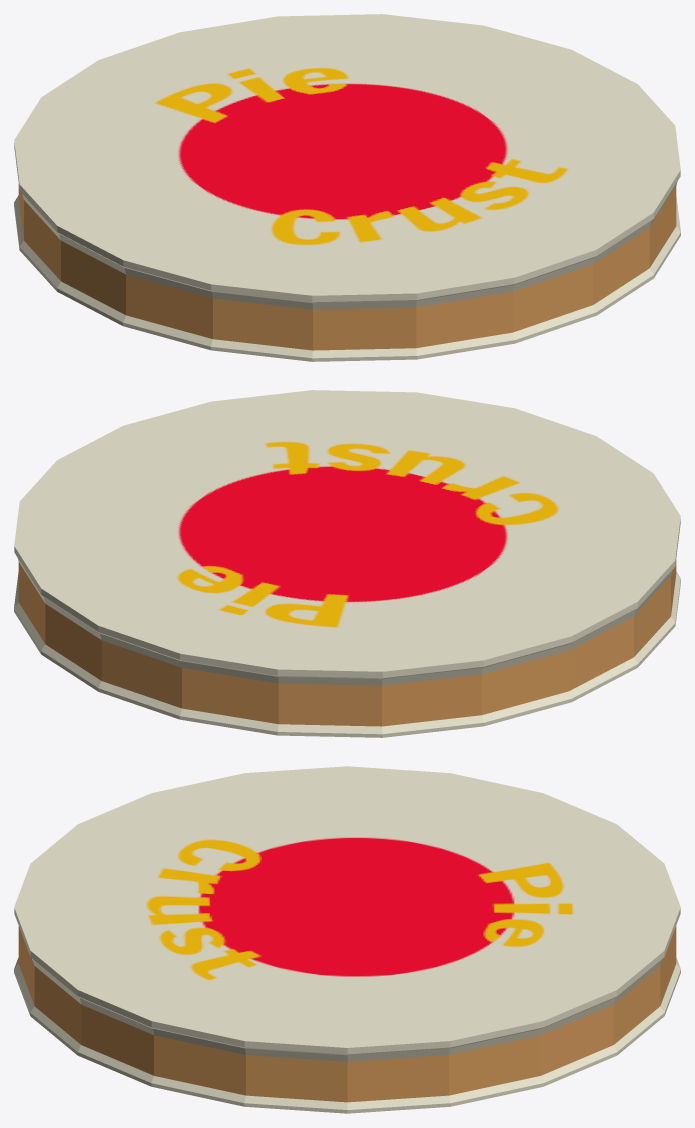
Rendered from CrustBox.obj.
3 renders of one model, top to bottom at view 1: azimuth 30°, elevation 25°; view 2: azimuth 150°, elevation 25°; view 3: azimuth 270°, elevation 25°, orthographic.
Bounding box in the file's own units: 4.39 × 0.4763 × 4.39.
1 material, 1 textured.
